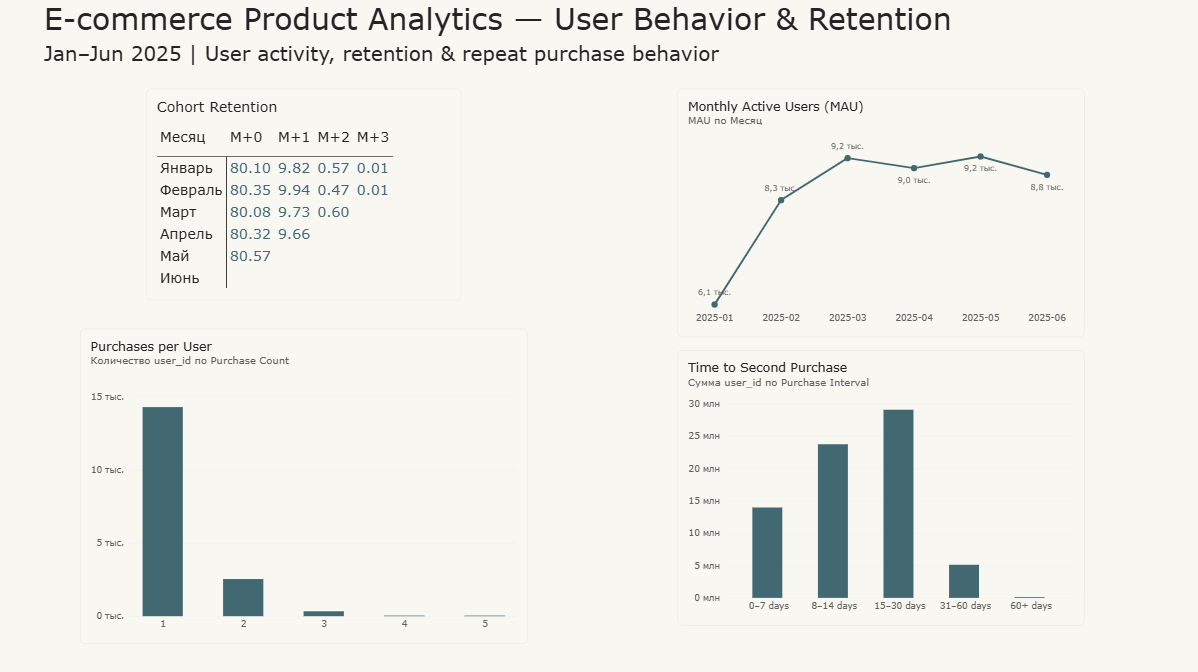

The page's visual inventory and layout, read from the dashboard file:
{"tool":"powerbi","page":{"name":"User Behavior & Retention","canvas":[1920,1080],"ordinal":1},"visuals":[{"type":"textbox","box":[69.4,0,1549,65.3],"z":0},{"type":"textbox","box":[70,66,1232,52],"z":1},{"type":"lineChart","title":"Monthly Active Users (MAU)","fields":{"Category":["public events.Месяц"],"Y":["public events.MAU"]},"box":[1083.7,142.9,651,398],"z":2},{"type":"pivotTable","title":"Cohort Retention","fields":{"Rows":["Retention Data.Cohort.Изменение.Иерархия дат.Месяц"],"Values":["Min(Retention Data.M+0)","Min(Retention Data.M+1)","Min(Retention Data.M+2)","Min(Retention Data.M+3)"]},"box":[234.7,142.9,504.1,338.8],"z":4},{"type":"columnChart","title":"Time to Second Purchase","fields":{"Category":["Time to Second Purchase.Purchase Interval"],"Y":["Sum(Time to Second Purchase.user_id)"]},"box":[1083.7,559.2,651,440.8],"z":5},{"type":"columnChart","title":"Purchases per User","fields":{"Category":["User Purchases.Purchase Count"],"Y":["CountNonNull(User Purchases.user_id)"]},"box":[128.6,526.5,716.3,504.1],"z":6}]}

Visuals, with their boxes in screenshot pixels (x1, y1, x2, y2), scaled from the page's 1920x1080 canvas onto the 1198x672 screenshot:
textbox: detection(43, 0, 1010, 41)
textbox: detection(44, 41, 812, 73)
"Monthly Active Users (MAU)" lineChart: detection(676, 89, 1082, 337)
"Cohort Retention" pivotTable: detection(146, 89, 461, 300)
"Time to Second Purchase" columnChart: detection(676, 348, 1082, 622)
"Purchases per User" columnChart: detection(80, 328, 527, 641)
